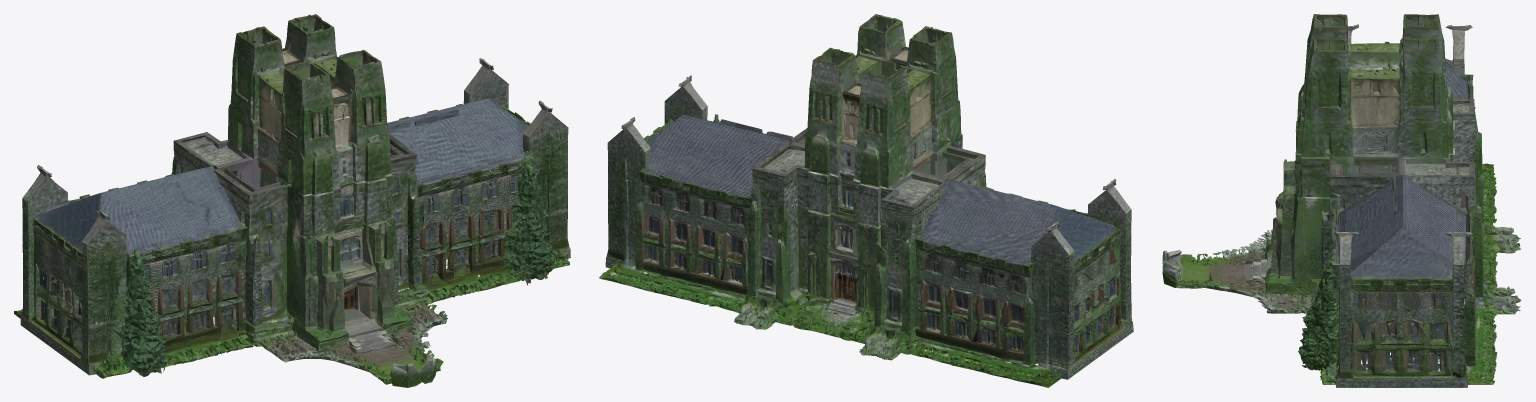
3 views of the same model, side by side, from view 1: azimuth 30°, elevation 25°; view 2: azimuth 150°, elevation 25°; view 3: azimuth 270°, elevation 25° (orthographic). The views are drawn at different scales.
Visible parts, largest first — view 1: Mesh_0; view 2: Mesh_0; view 3: Mesh_0.
Boxes of the visible parts, box(x1,y1,x2,y2) form: Mesh_0: box(14, 14, 570, 387); Mesh_0: box(599, 14, 1133, 387); Mesh_0: box(1162, 14, 1521, 387).
Bounding box in the file's own units: 1.9 × 0.9734 × 1.28.
1 material, 1 textured.
